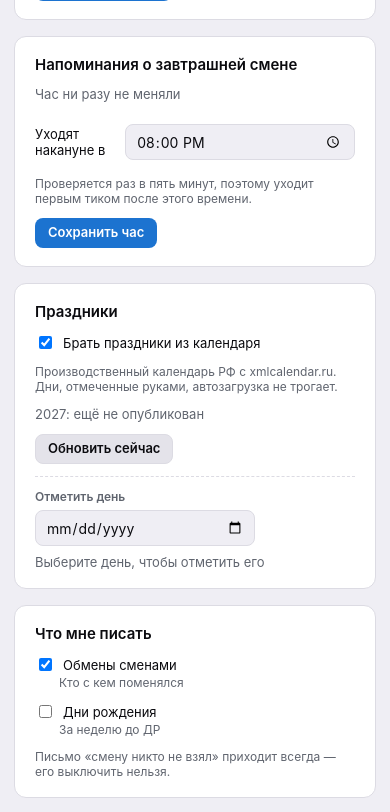
«Настройки» консоли: что мне писать › отказ сервера откатывает тумблер и пишет причину у этого вида
(page scrolled)
Click the checkbox labelled "Обмены сменами": (46,664) x1=39 y1=658 x2=52 y2=671
(page scrolled)
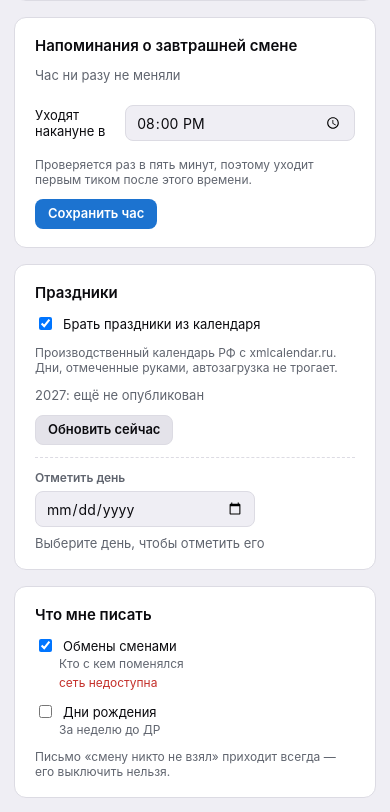
Expected: the checkbox labelled "Обмены сменами" is checked, x1=39 y1=639 x2=52 y2=652
Expected: the element that starts with "Что мне писать" shows "сеть недоступна", x1=59 y1=675 x2=157 y2=690
